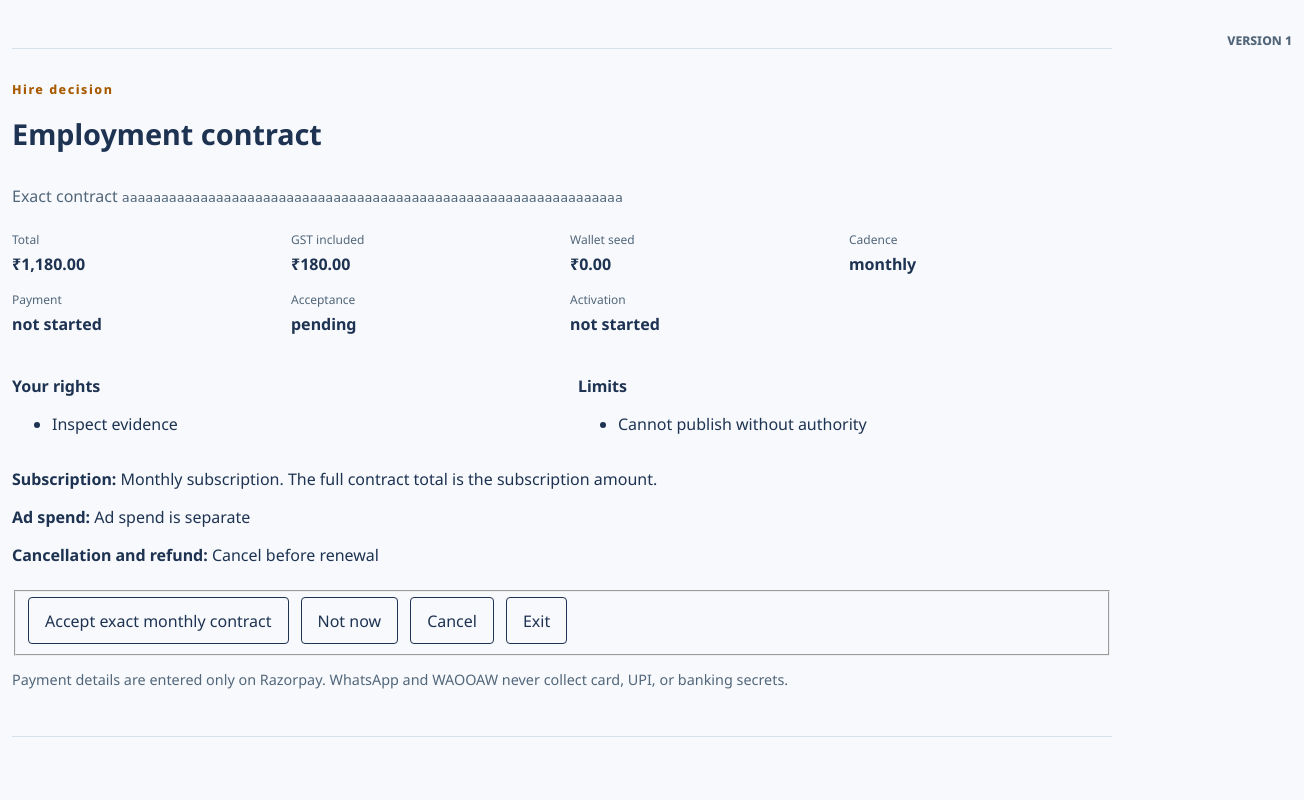
Test case: ContractJourney Razorpay Standard Checkout › accepts the exact contract before exposing funding
The image size is (1304, 800).
Click the button "Accept exact monthly contract" at x=158, y=621, box [28,597,288,644]
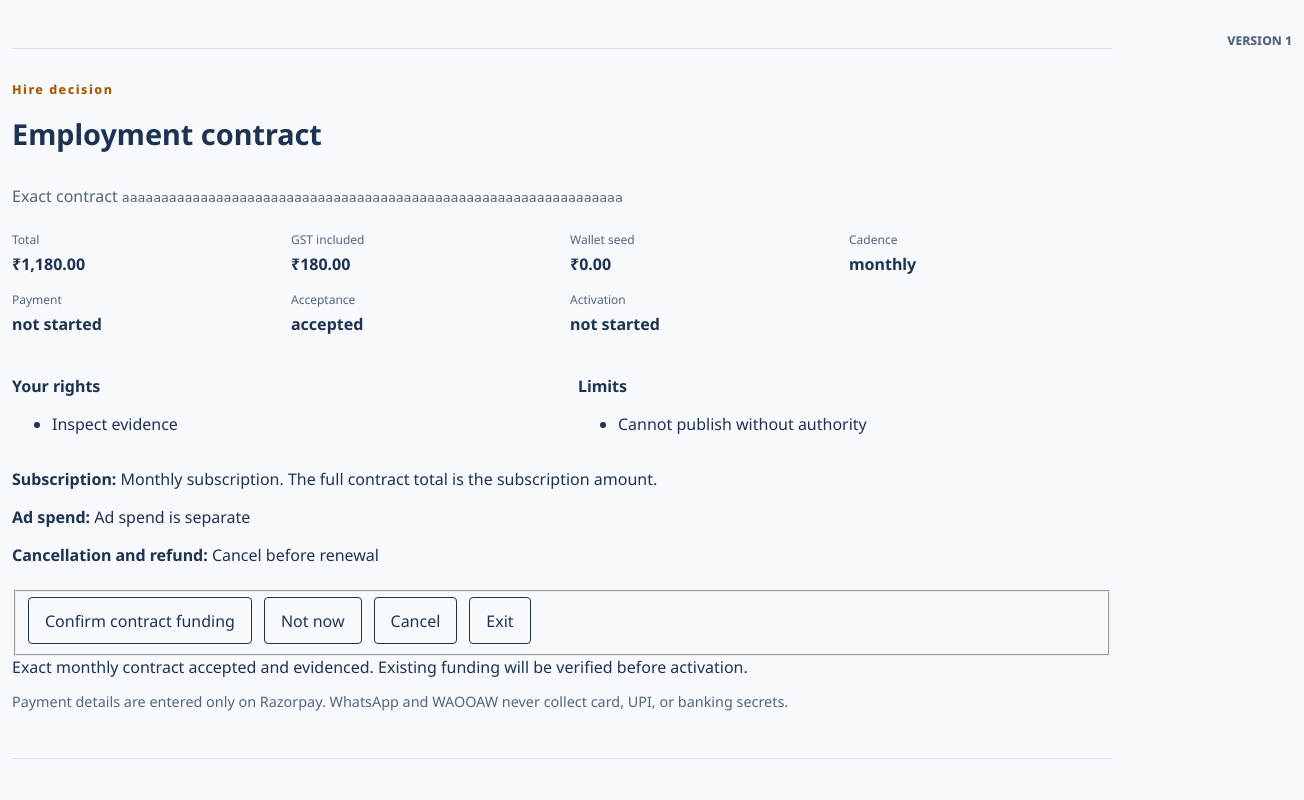
Expected: the button "Confirm contract funding" is enabled, [28,597,252,644]
Expected: the text "Exact monthly contract accepted and evidenced" is shown, [12,656,748,678]
